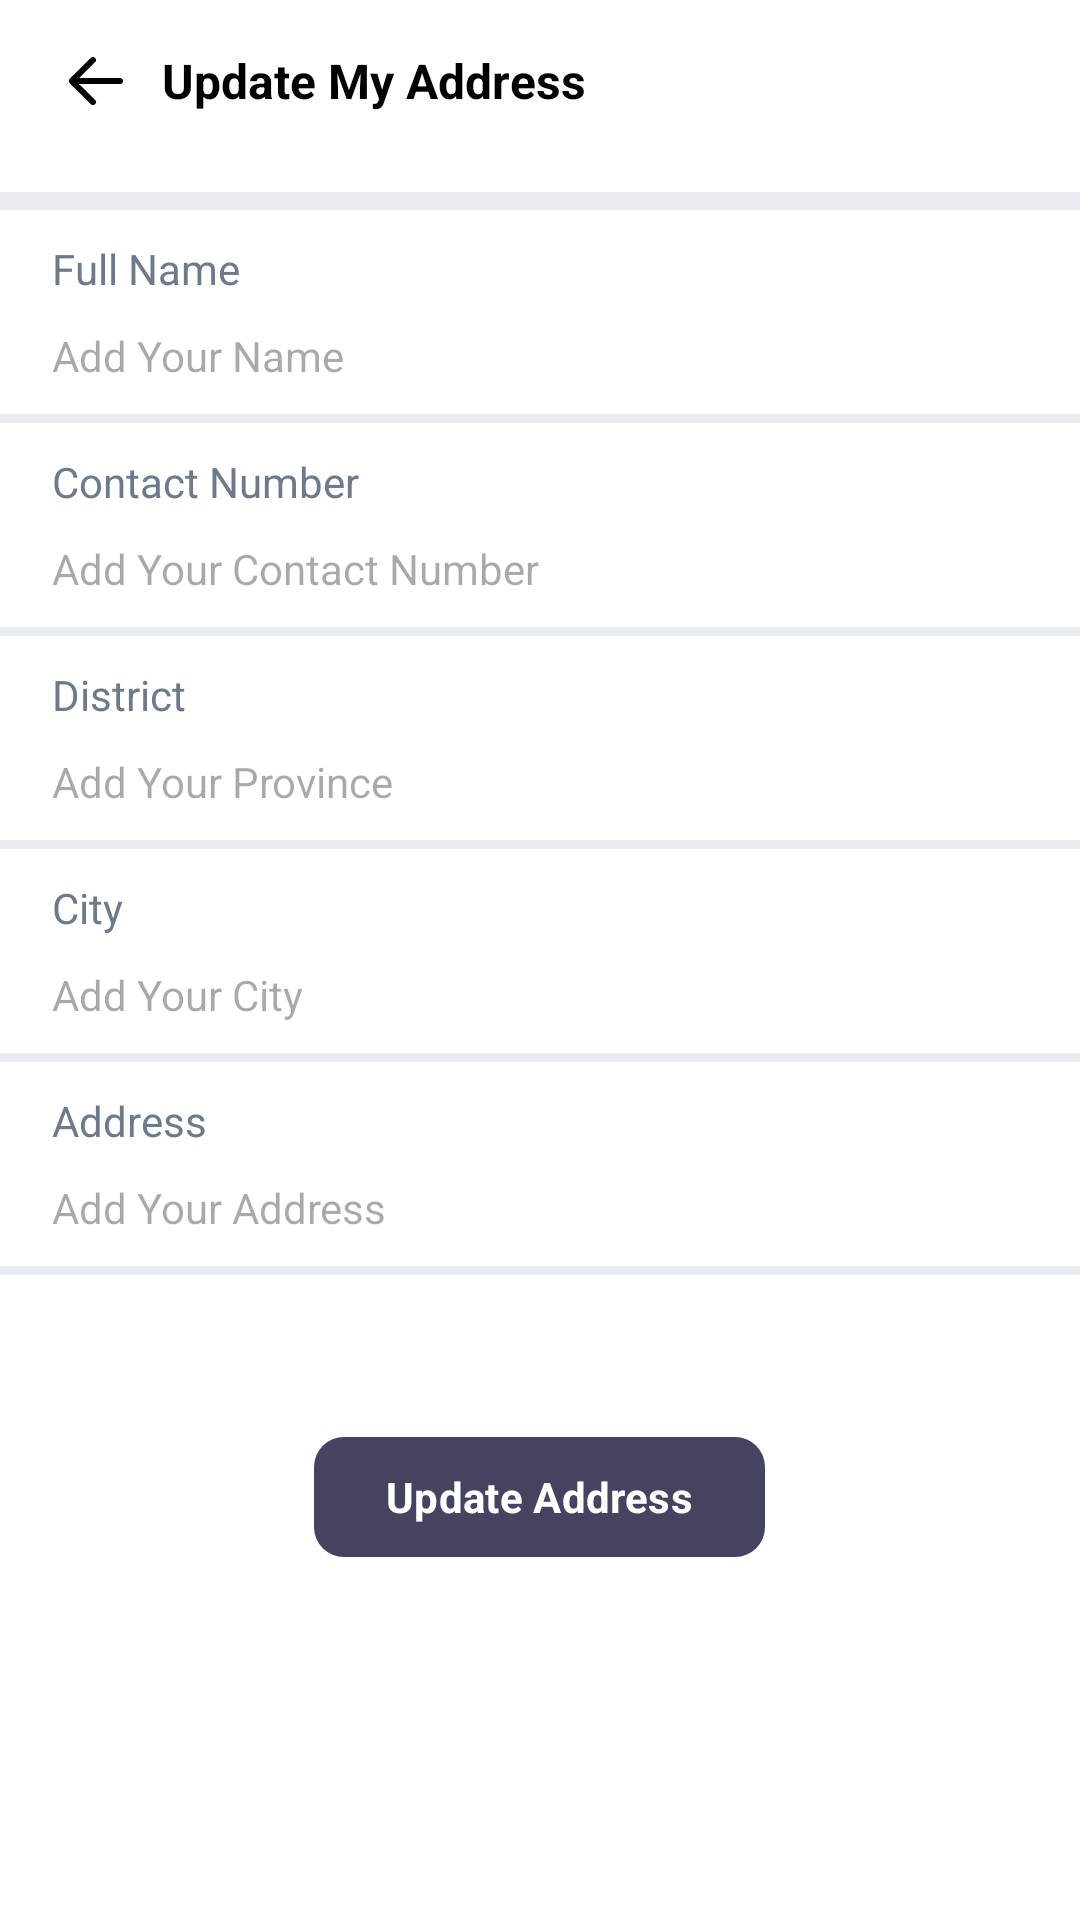

Icons on this 1080 × 1920 Android screen, each with the point to tap as (x=x, y=y):
fluent arrow left: (x=95, y=81)
